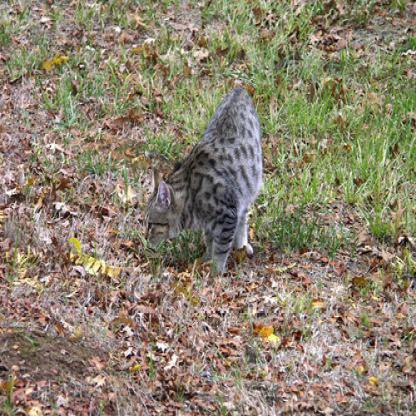cat: (143, 86, 262, 277)
